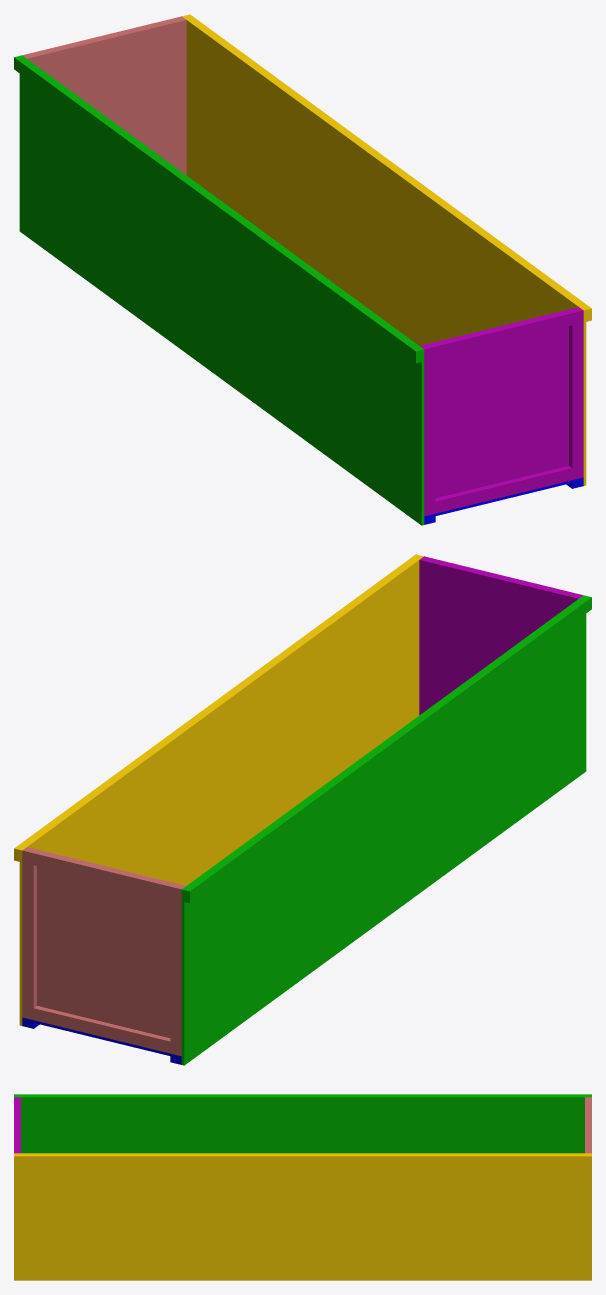
Rendered from result.glb.
3 views of the same model, one above another, from view 1: azimuth 30°, elevation 25°; view 2: azimuth 150°, elevation 25°; view 3: azimuth 270°, elevation 25° (orthographic). The views are drawn at different scales.
Visible parts, largest first — view 1: f82be725-15ca-4078-80b7-5c64f7910e6a__Box_6, a563881f-4e85-4f56-85ad-04f0f495ce67__undefined, 403b87ac-bba9-4a8c-b465-29a3bd4bad4c__Box_3, dfd60d9e-6c15-4658-af10-2a0a55266df6__undefined, 13eca8ff-960a-499f-9032-f70325e02674__Box_7, f5ff6502-6474-4630-bacc-e3171f3d8ee8__undefined, a37f6de3-5836-463b-a0a8-3c62f305e88b__undefined, f20da558-de6e-4a68-a3d5-a80877fc19a1__undefined, de12bbd2-084a-4122-9080-d80c4a16c3a7__Box_5, 48bb5e23-518b-43e1-83b4-a71657a6357d__Box_4; view 2: f82be725-15ca-4078-80b7-5c64f7910e6a__Box_6, a563881f-4e85-4f56-85ad-04f0f495ce67__undefined, dfd60d9e-6c15-4658-af10-2a0a55266df6__undefined, 403b87ac-bba9-4a8c-b465-29a3bd4bad4c__Box_3, 13eca8ff-960a-499f-9032-f70325e02674__Box_7, f5ff6502-6474-4630-bacc-e3171f3d8ee8__undefined, c3023ae1-088d-427f-82b7-c56130f6c1ec__undefined, 2ed1aa60-4598-4776-8588-9f5e4064a3bf__undefined, 64016f42-a00b-4a1b-8523-10dcb426e60d__undefined, 0fa37abf-fce3-4fc7-9892-1d045b67fb92__undefined; view 3: a563881f-4e85-4f56-85ad-04f0f495ce67__undefined, f82be725-15ca-4078-80b7-5c64f7910e6a__Box_6, f5ff6502-6474-4630-bacc-e3171f3d8ee8__undefined, 13eca8ff-960a-499f-9032-f70325e02674__Box_7.
Boxes of the visible parts, box(x1,y1,x2,y2) form: f82be725-15ca-4078-80b7-5c64f7910e6a__Box_6: box(19, 55, 424, 525); a563881f-4e85-4f56-85ad-04f0f495ce67__undefined: box(182, 15, 586, 485); 403b87ac-bba9-4a8c-b465-29a3bd4bad4c__Box_3: box(420, 307, 579, 497); dfd60d9e-6c15-4658-af10-2a0a55266df6__undefined: box(26, 19, 186, 175); 13eca8ff-960a-499f-9032-f70325e02674__Box_7: box(14, 56, 421, 363); f5ff6502-6474-4630-bacc-e3171f3d8ee8__undefined: box(185, 14, 591, 321); a37f6de3-5836-463b-a0a8-3c62f305e88b__undefined: box(569, 308, 583, 479); f20da558-de6e-4a68-a3d5-a80877fc19a1__undefined: box(432, 311, 572, 358); de12bbd2-084a-4122-9080-d80c4a16c3a7__Box_5: box(435, 466, 572, 513); 48bb5e23-518b-43e1-83b4-a71657a6357d__Box_4: box(421, 344, 435, 516); f82be725-15ca-4078-80b7-5c64f7910e6a__Box_6: box(181, 595, 586, 1065); a563881f-4e85-4f56-85ad-04f0f495ce67__undefined: box(19, 555, 423, 1025); dfd60d9e-6c15-4658-af10-2a0a55266df6__undefined: box(26, 847, 185, 1037); 403b87ac-bba9-4a8c-b465-29a3bd4bad4c__Box_3: box(419, 559, 579, 715); 13eca8ff-960a-499f-9032-f70325e02674__Box_7: box(184, 596, 591, 903); f5ff6502-6474-4630-bacc-e3171f3d8ee8__undefined: box(14, 554, 420, 861); c3023ae1-088d-427f-82b7-c56130f6c1ec__undefined: box(22, 848, 36, 1019); 2ed1aa60-4598-4776-8588-9f5e4064a3bf__undefined: box(33, 851, 173, 898); 64016f42-a00b-4a1b-8523-10dcb426e60d__undefined: box(33, 1006, 170, 1053); 0fa37abf-fce3-4fc7-9892-1d045b67fb92__undefined: box(170, 884, 184, 1056); a563881f-4e85-4f56-85ad-04f0f495ce67__undefined: box(14, 1153, 591, 1280); f82be725-15ca-4078-80b7-5c64f7910e6a__Box_6: box(14, 1096, 591, 1153); f5ff6502-6474-4630-bacc-e3171f3d8ee8__undefined: box(14, 1154, 591, 1164); 13eca8ff-960a-499f-9032-f70325e02674__Box_7: box(14, 1094, 591, 1096).
Bounding box in the file's own units: 552 × 526 × 2182.
